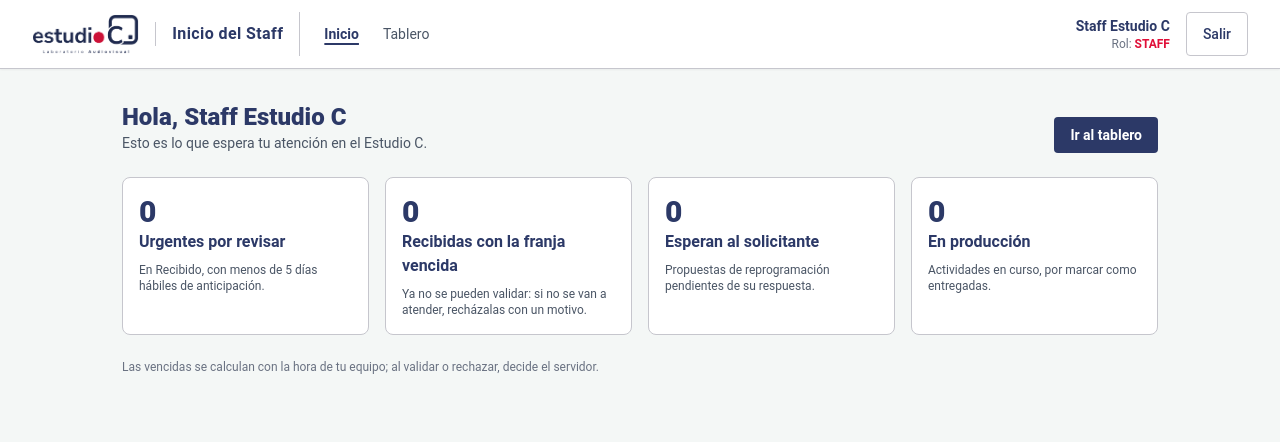
Test case: App › Fase 7 · C6: el STAFF navega del inicio al tablero desde el encabezado y aria-current sigue a la pantalla
Expected: the navigation bar named "Atajos del Staff" is shown, [122,177,1158,335]
Click the link "Tablero".
click(406, 34)  # box [383,26,429,42]
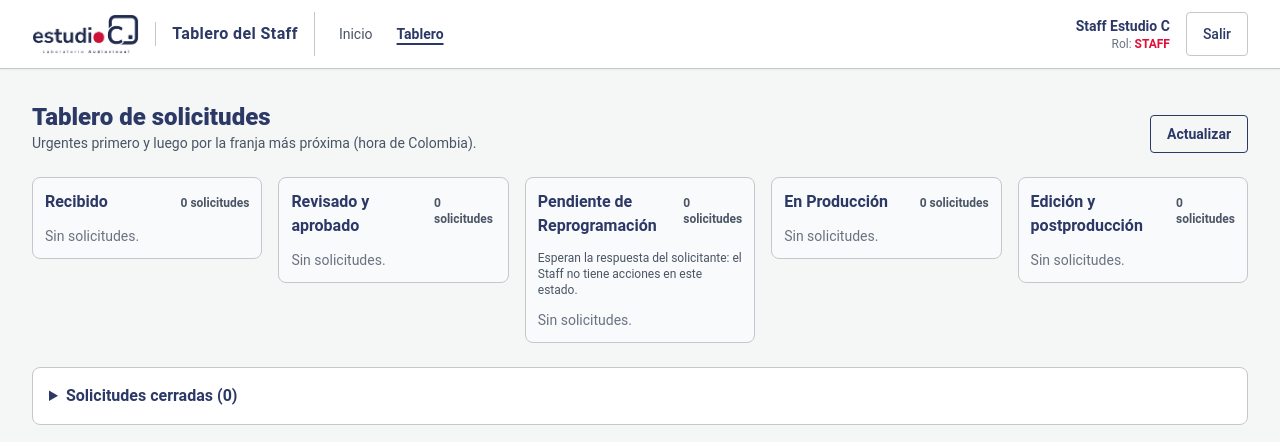
Expected: the heading "Tablero de solicitudes" is shown, [32,103,270,131]
